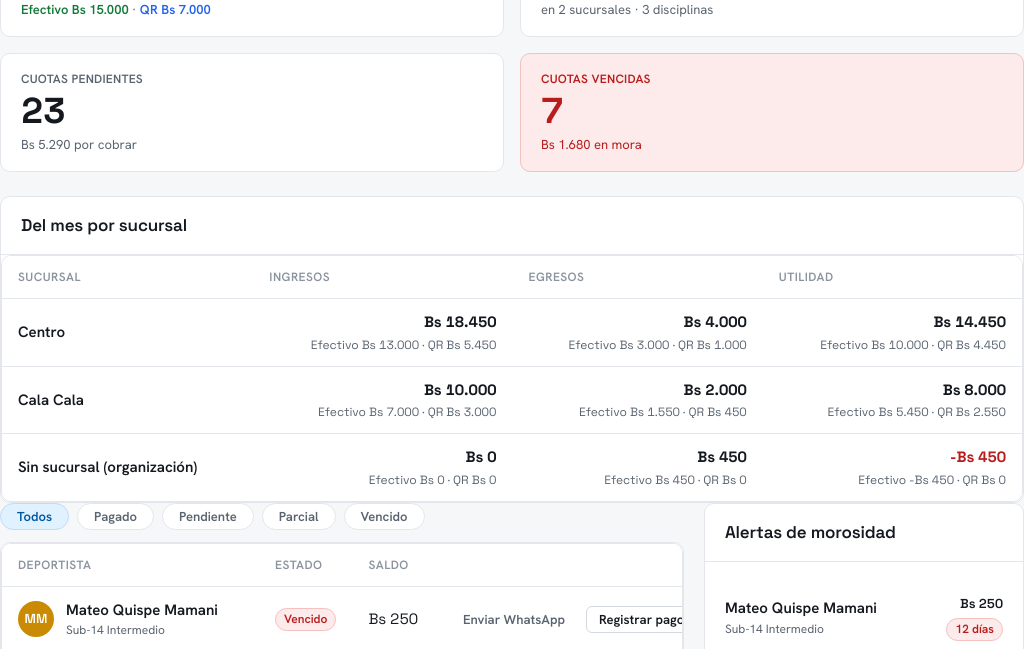
Scenario: PanelCobranza › envía el recordatorio y muestra el aviso de éxito (motivo ok)
(page scrolled)
Click the button "Enviar WhatsApp" in the row of "MM" at (514, 619), box [450,606,578,632]
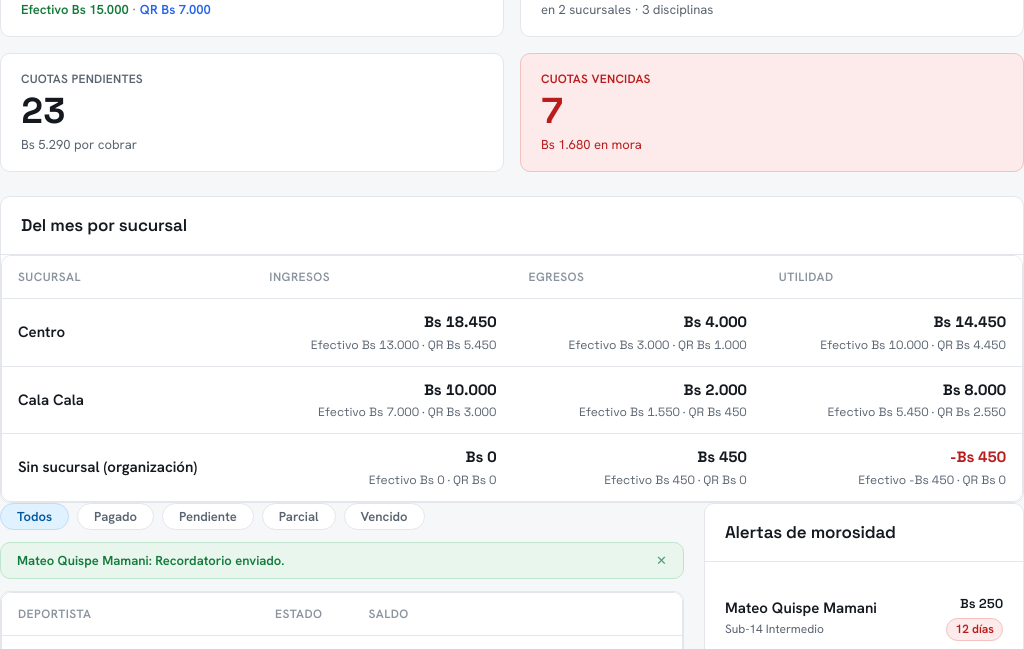
Expected: the text "Mateo Quispe Mamani: Recordatorio enviado." is shown, [17,551,284,570]
